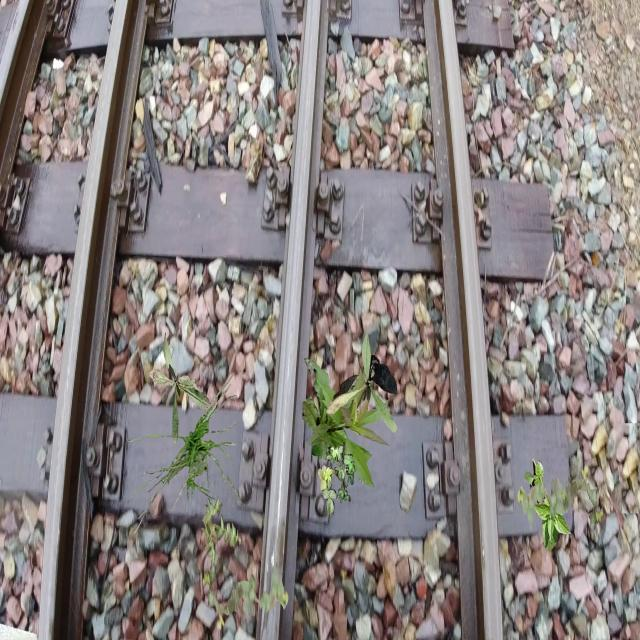Plant: (126, 372, 244, 536), (302, 358, 390, 488), (326, 334, 398, 434), (148, 332, 212, 444), (517, 464, 604, 532), (202, 562, 288, 630), (524, 458, 572, 553), (201, 496, 242, 568), (318, 442, 356, 516)
